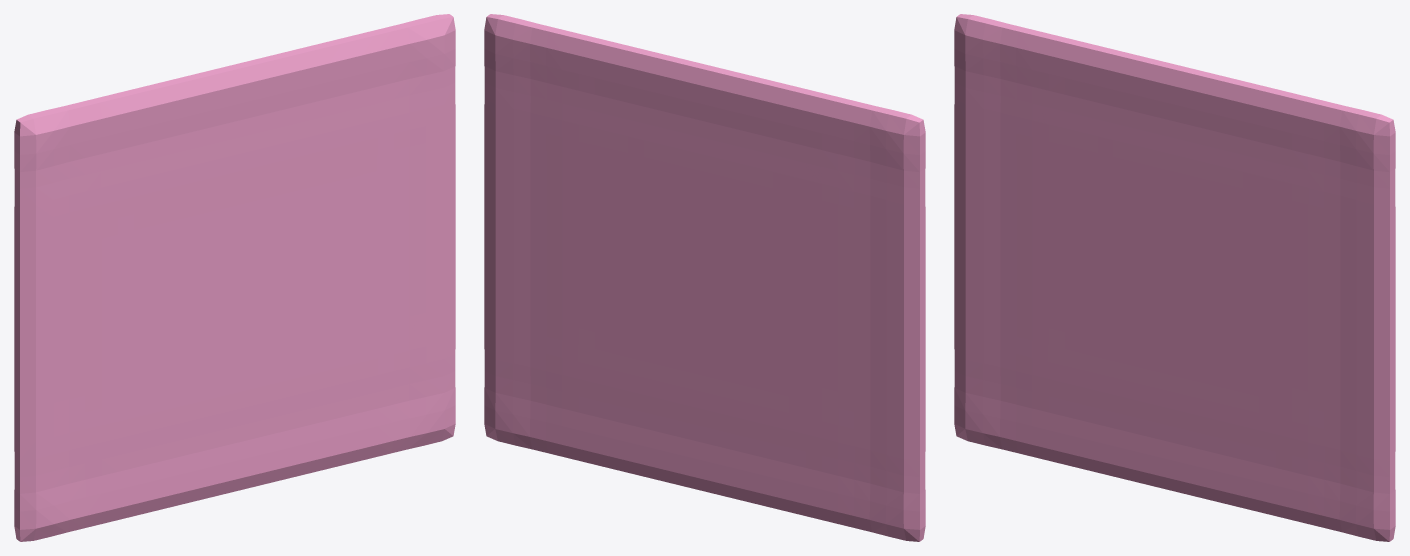
The model's file is Thermal_Paste.gltf.
3 renders of one model, left to right at view 1: azimuth 30°, elevation 25°; view 2: azimuth 150°, elevation 25°; view 3: azimuth 330°, elevation 25°, orthographic.
Size of the model in its own units: 21.5 by 19.9 by 0.9414.
